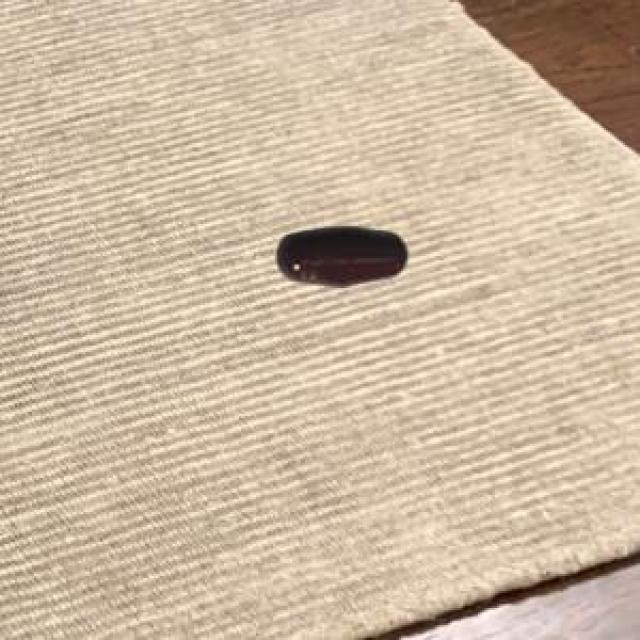DayZinc: (266, 214, 419, 305)
